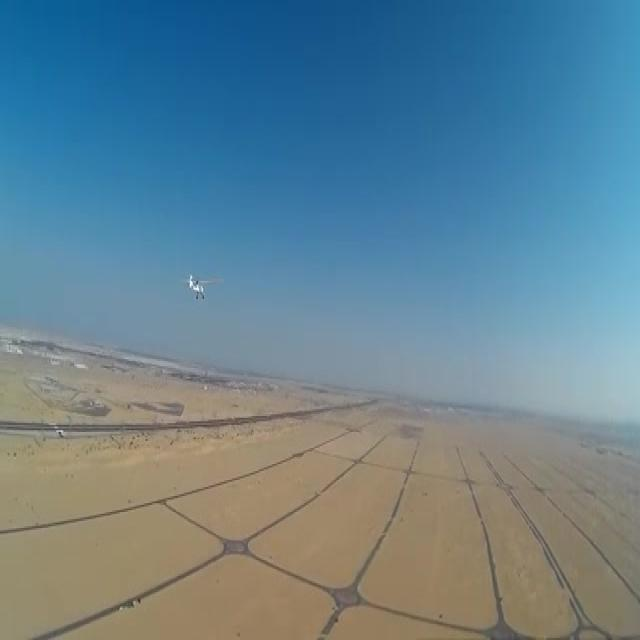iha: (174, 275, 218, 299)
